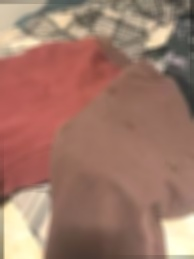oil: (162, 158, 178, 173), (122, 120, 136, 133), (111, 91, 122, 100)
